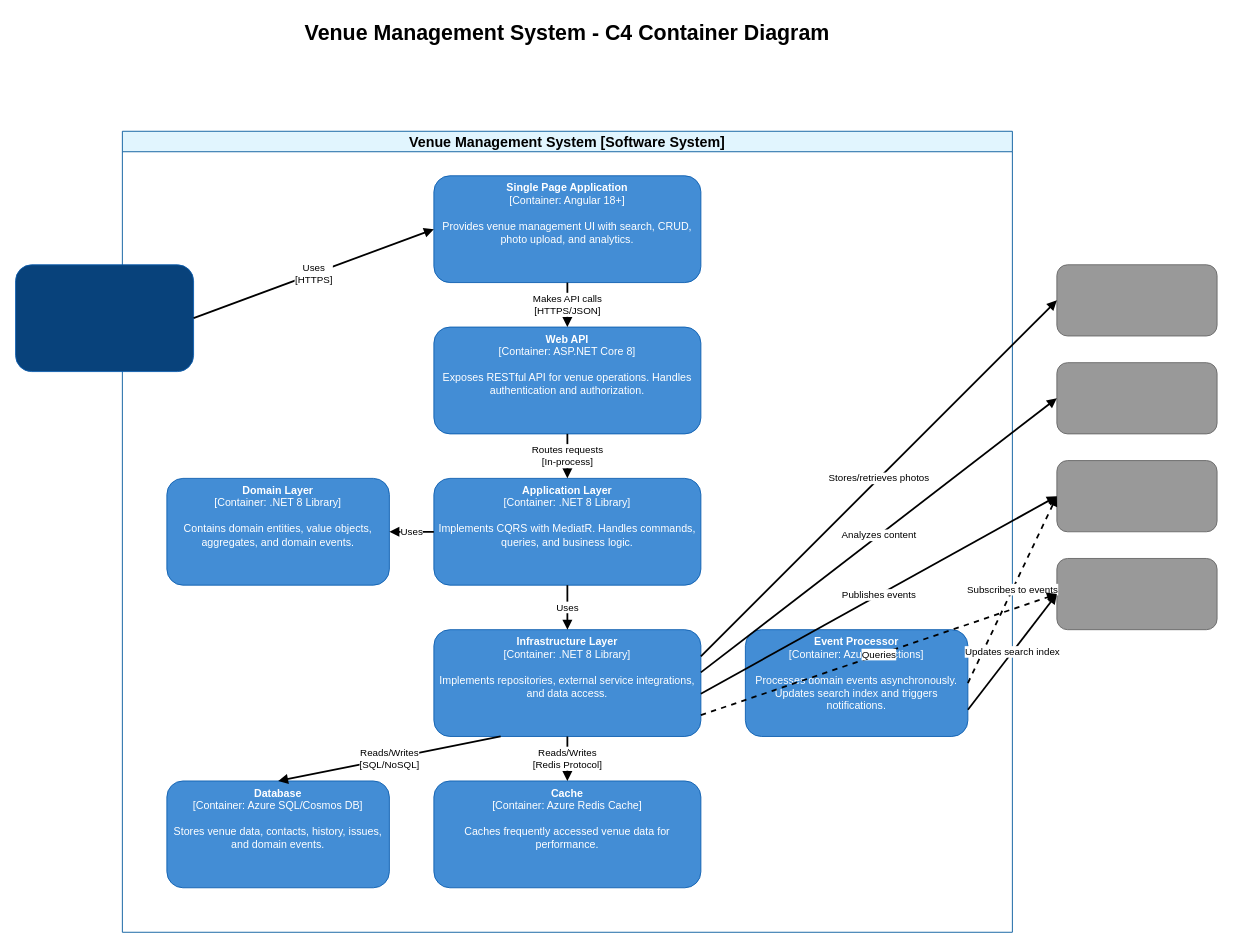
Image size: 1233x948. Some labels were removed from this diagram. The shapes that lost their labels are listed below. From the top down, each one's centre as x and y in pixels, then its label:
the point at 104,318: Users [People] Admins, Managers, Planners, Coordinators
the point at 1136,300: Azure Blob Storage [External System]
the point at 1136,398: Azure AI Services [External System]
the point at 1136,496: Azure Service Bus [External System]
the point at 1136,594: Azure Cognitive Search [External System]
